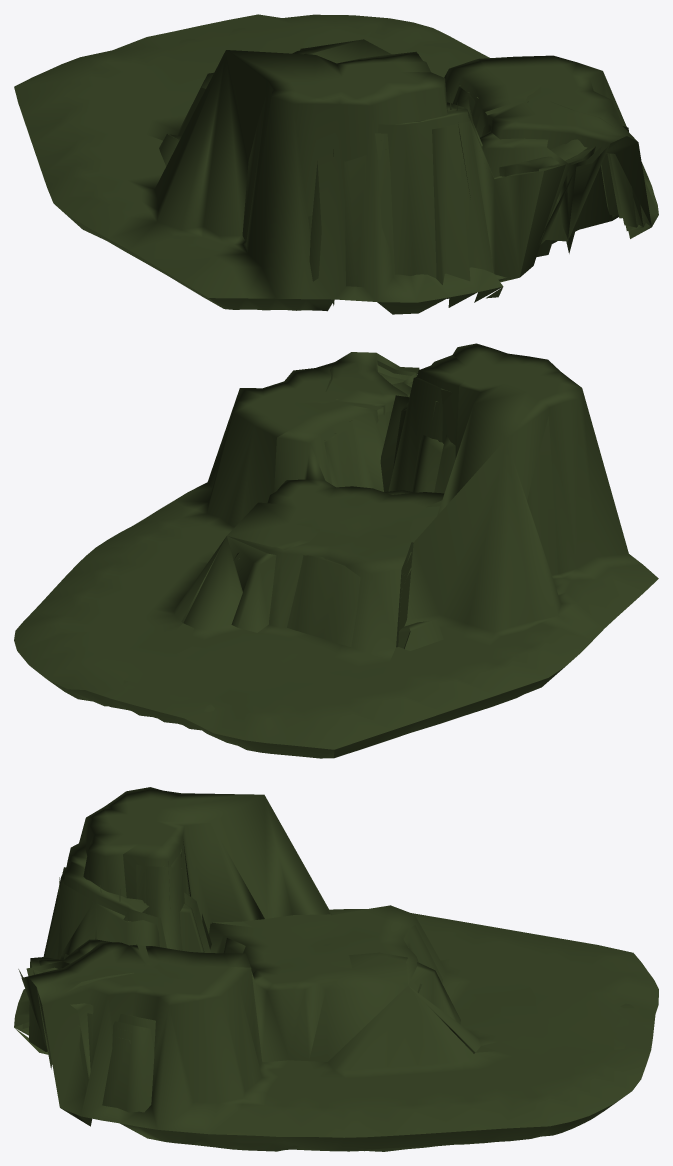
Rendered from rock plataform.fbx.
3 views of the same model, one above another, from view 1: azimuth 30°, elevation 25°; view 2: azimuth 150°, elevation 25°; view 3: azimuth 270°, elevation 25° (orthographic). The views are drawn at different scales.
Visible parts, largest first — view 1: polySurface7; view 2: polySurface7; view 3: polySurface7.
Boxes of the visible parts, bbox=[...] form: polySurface7: bbox=[14, 14, 658, 314]; polySurface7: bbox=[14, 343, 658, 758]; polySurface7: bbox=[14, 787, 658, 1151].
Size of the model in its own units: 5.93 by 3.35 by 7.1.
